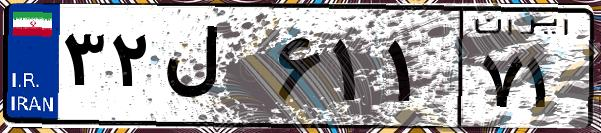1: (385, 28, 445, 110), (330, 28, 385, 110), (525, 38, 570, 115)
2: (110, 28, 158, 98)
3: (57, 26, 110, 100)
6: (270, 28, 330, 110)
7: (475, 38, 525, 113)
ل: (158, 20, 270, 120)
